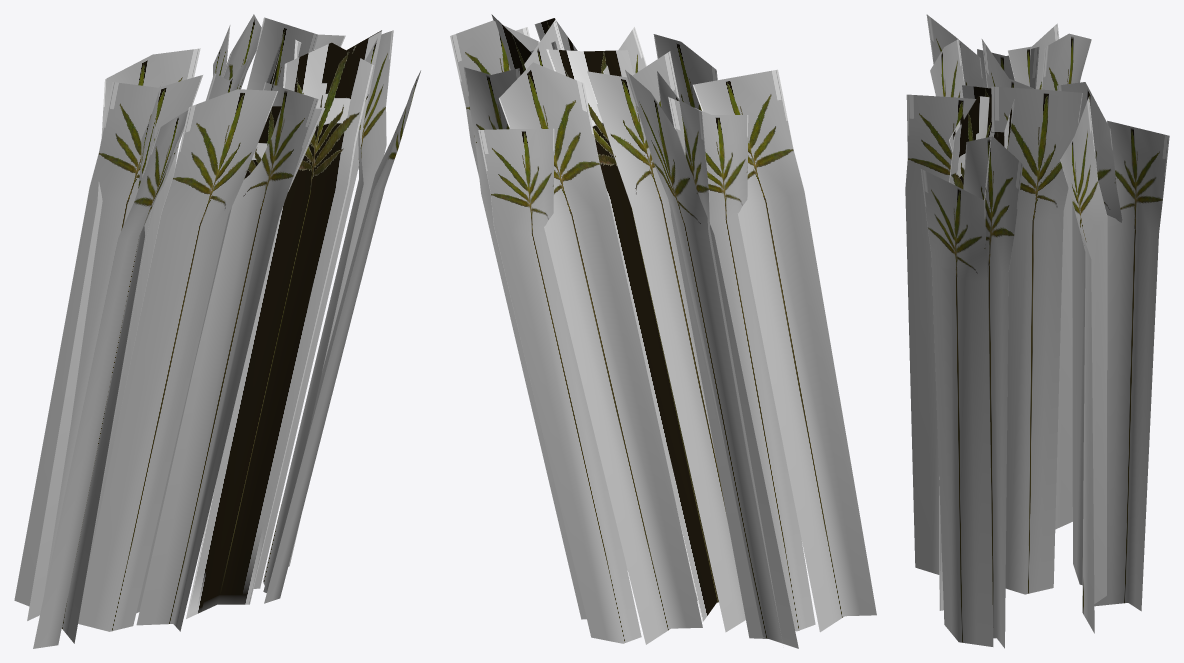
File: reeds_spot_4m.DAE
The picture shows the model from 3 angles, left to right: view 1: azimuth 30°, elevation 25°; view 2: azimuth 150°, elevation 25°; view 3: azimuth 270°, elevation 25°; orthographic projection. The views are drawn at different scales.
Parts seen in each view (by area): view 1: Plane03; view 2: Plane03; view 3: Plane03.
Boxes of the visible parts, box(x1,y1,x2,y2) form: Plane03: box(14, 14, 420, 648); Plane03: box(450, 14, 876, 648); Plane03: box(905, 14, 1169, 648).
Bounding box in the file's own units: 7.28 × 9.43 × 3.83.
